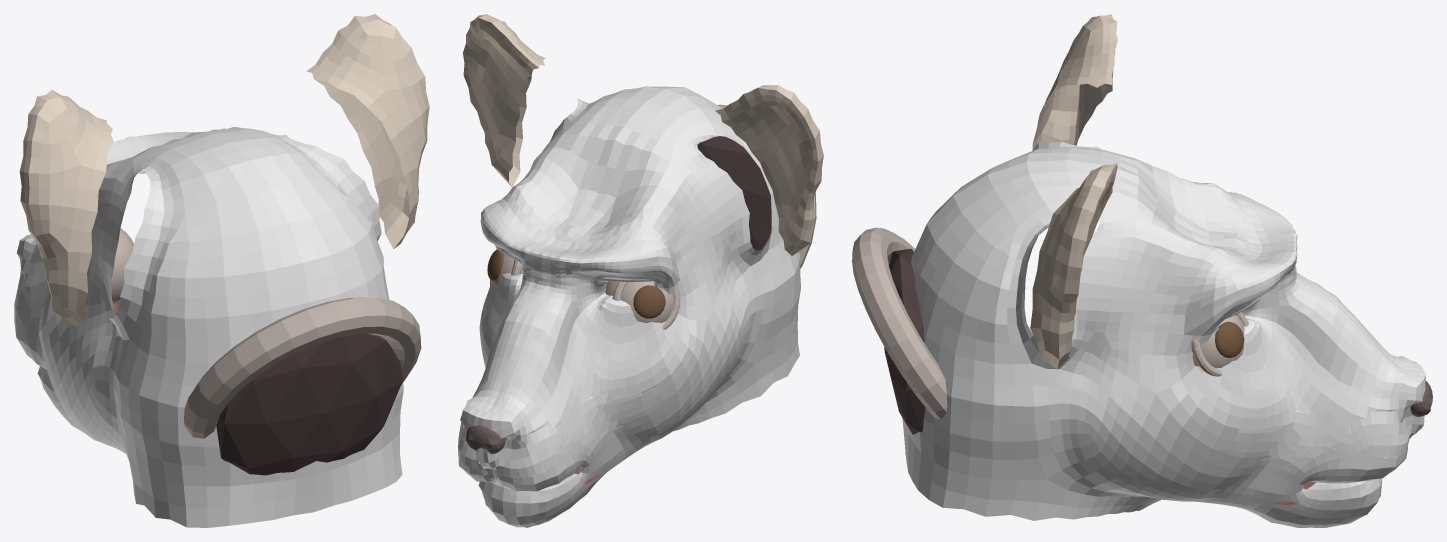
The model's file is neutral_base_head_v5.glb.
3 renders of one model, left to right at view 1: azimuth 30°, elevation 25°; view 2: azimuth 150°, elevation 25°; view 3: azimuth 270°, elevation 25°, orthographic. The views are drawn at different scales.
Visible parts, largest first — view 1: TissueHead, NeckSocketDisc, Ear_L, Ear_R, Jaw, NeckSocket, Eyelid_R; view 2: TissueHead, Jaw, Ear_R, Ear_L, NeckSocketDisc, Eyelid_R, Iris_R, NoseLeather, LidMargin_R; view 3: TissueHead, Jaw, Ear_L, NeckSocket, Ear_R, NeckSocketDisc, Iris_L, Eyelid_L.
Part boxes in pixels (<box>): TissueHead: <box>16,127,403,527</box>; NeckSocketDisc: <box>216,333,403,475</box>; Ear_L: <box>306,14,429,248</box>; Ear_R: <box>19,90,113,326</box>; Jaw: <box>14,295,186,527</box>; NeckSocket: <box>184,297,421,438</box>; Eyelid_R: <box>111,228,133,303</box>; TissueHead: <box>459,86,799,463</box>; Jaw: <box>458,257,800,527</box>; Ear_R: <box>715,85,823,255</box>; Ear_L: <box>463,14,545,187</box>; NeckSocketDisc: <box>697,136,771,250</box>; Eyelid_R: <box>605,281,673,322</box>; Iris_R: <box>633,285,665,318</box>; NoseLeather: <box>466,425,505,454</box>; LidMargin_R: <box>612,281,679,329</box>; TissueHead: <box>902,141,1425,507</box>; Jaw: <box>943,397,1423,527</box>; Ear_L: <box>1030,163,1117,369</box>; NeckSocket: <box>852,227,947,419</box>; Ear_R: <box>1032,14,1117,149</box>; NeckSocketDisc: <box>884,248,925,434</box>; Iris_L: <box>1215,321,1243,357</box>; Eyelid_L: <box>1192,315,1244,368</box>.
Size of the model in its own units: 0.8408 by 0.8994 by 1.1.
